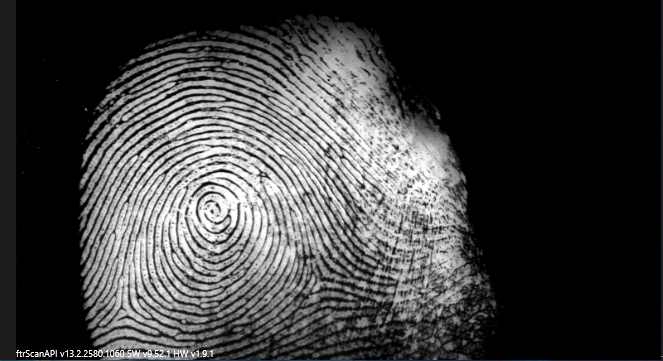nucelo: (195, 191, 231, 230)
verticilo: (109, 298, 146, 322), (304, 267, 333, 294)
